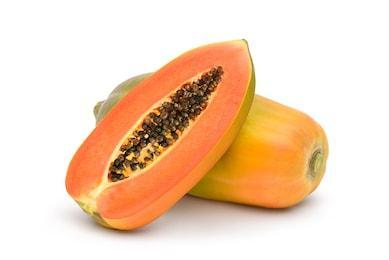papaya: (64, 38, 256, 228), (94, 73, 329, 209)
